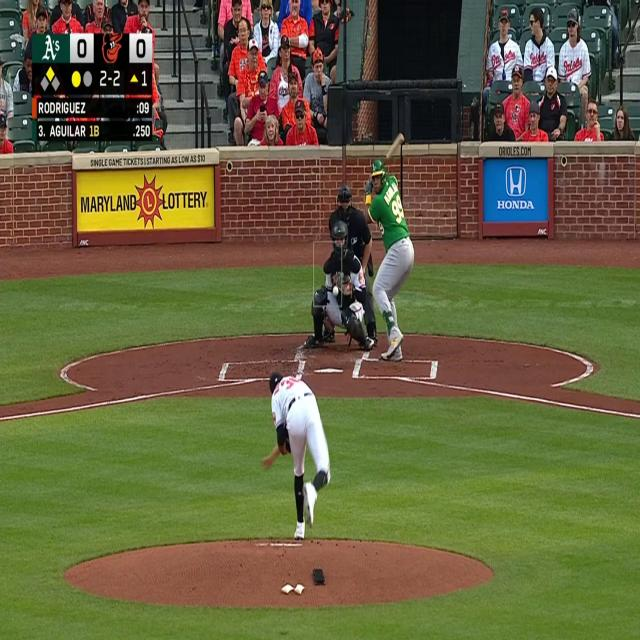baseball: (332, 286, 338, 297)
